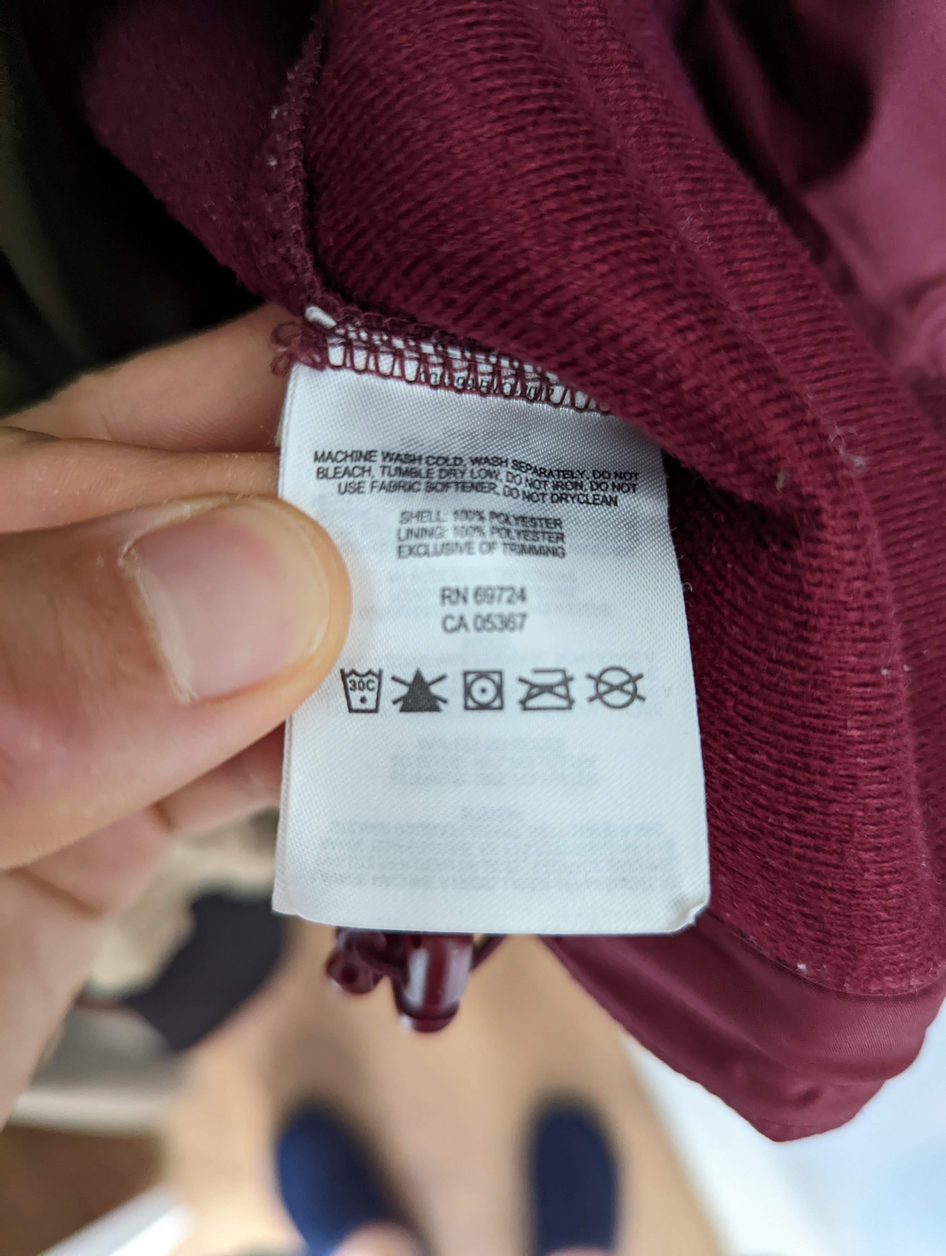ER_no_bleach: (385, 663, 454, 722)
ER_no_dry_clean: (581, 660, 653, 714)
ER_no_iron: (515, 664, 579, 718)
ER_tumble_dry_low_heat: (459, 665, 509, 714)
